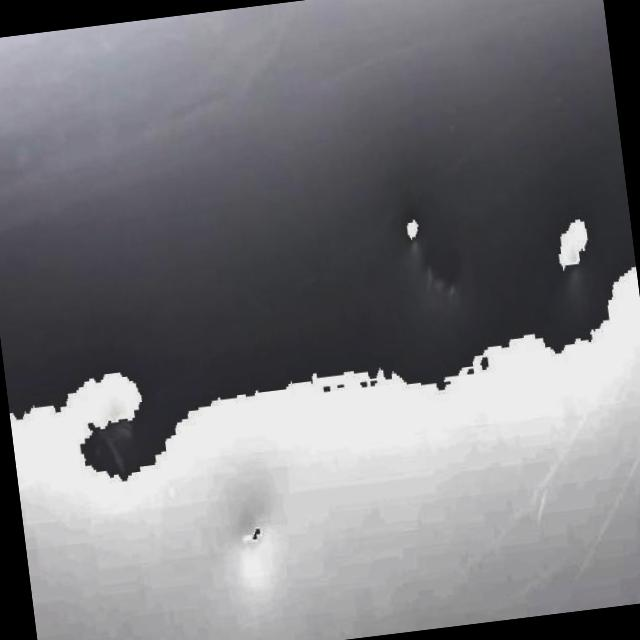dent: (534, 188, 604, 295), (396, 192, 464, 282)
